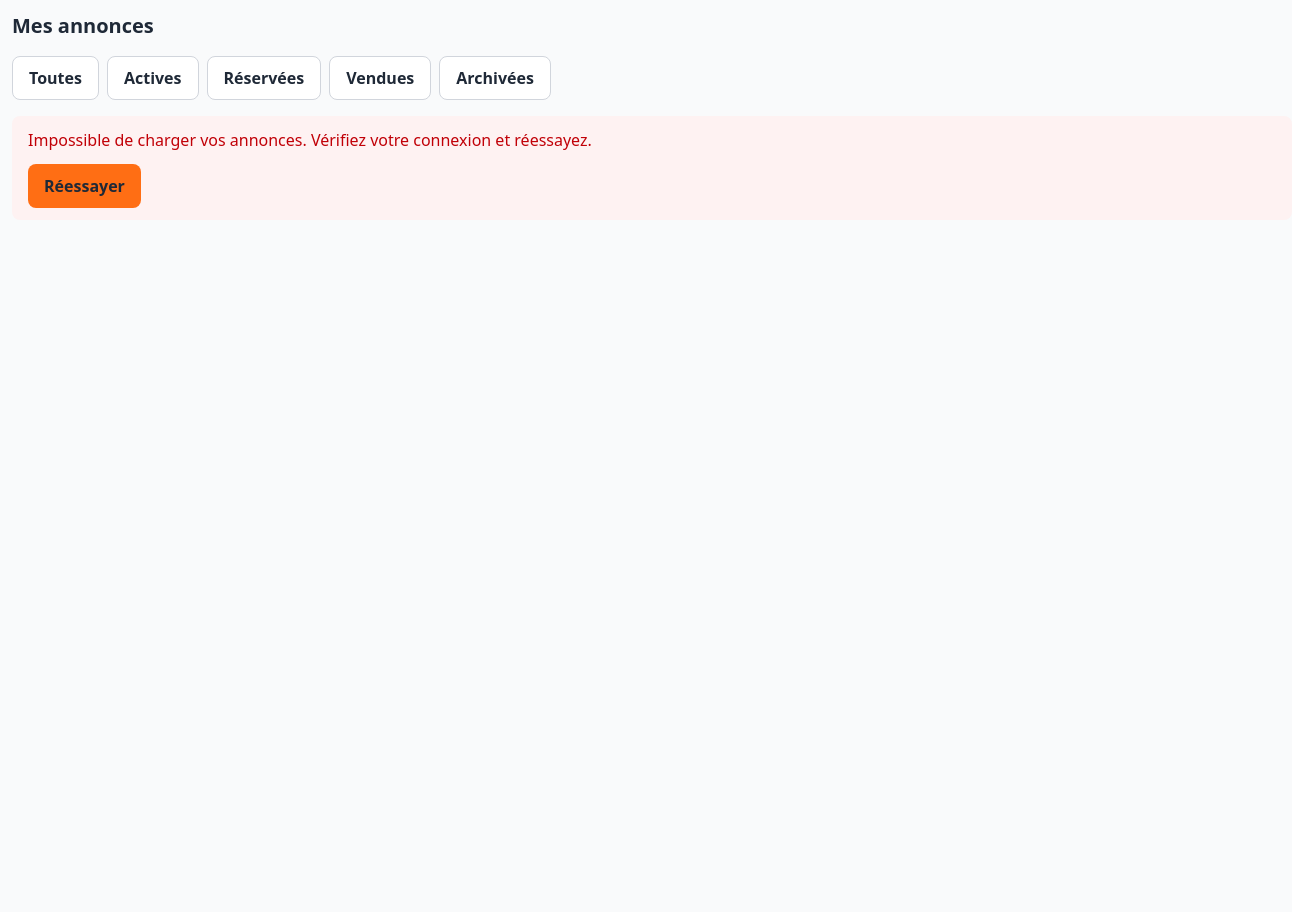
Mes annonces : liste › affiche une erreur avec « Réessayer » quand l'API échoue
Expected: the message shows "Impossible de charger vos annonces", [28, 129, 592, 151]
Click the button "Réessayer". click: [84, 186]
box: [28, 164, 141, 208]
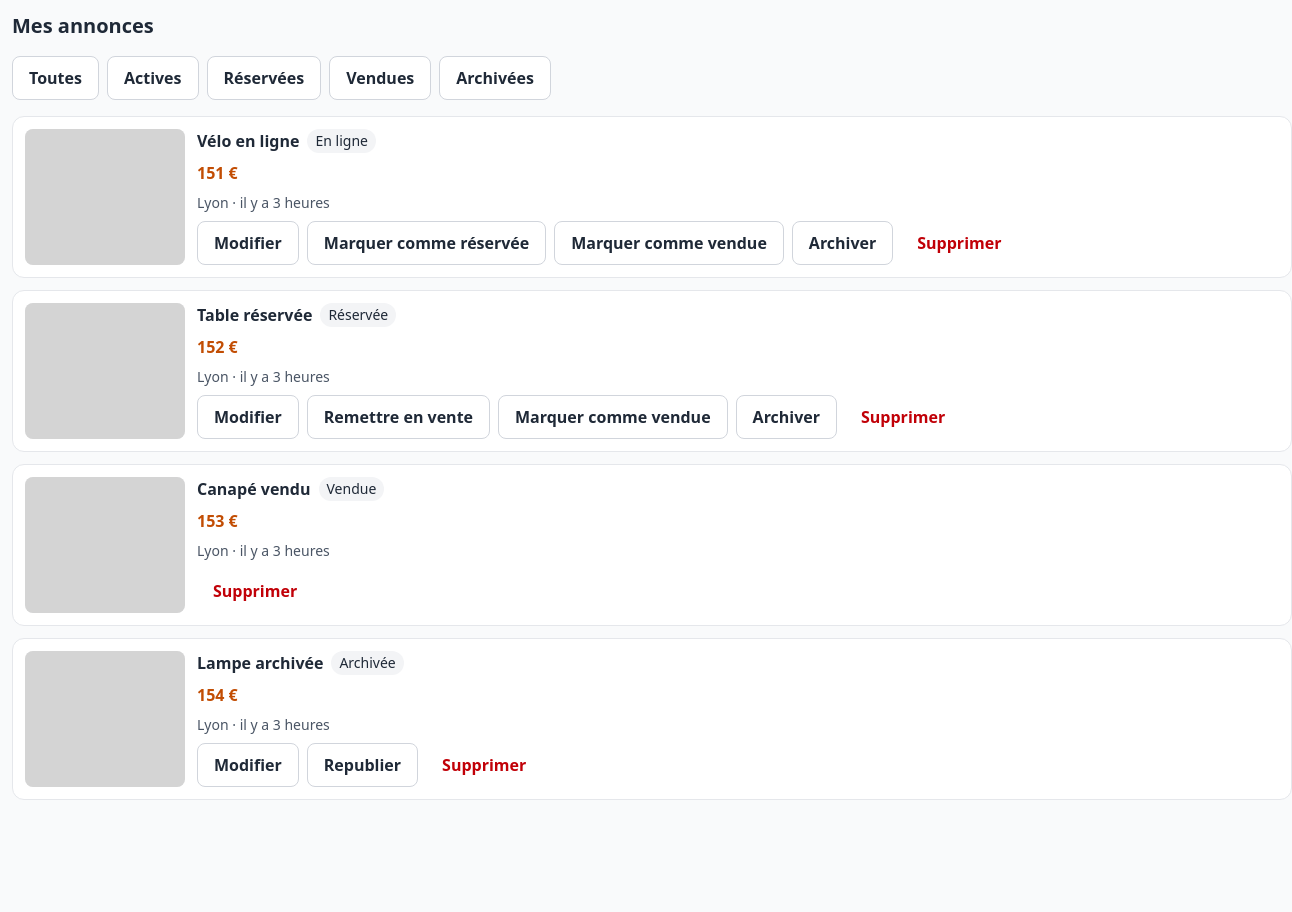
Expected: the link "Vélo en ligne" is shown, [197, 129, 300, 153]
